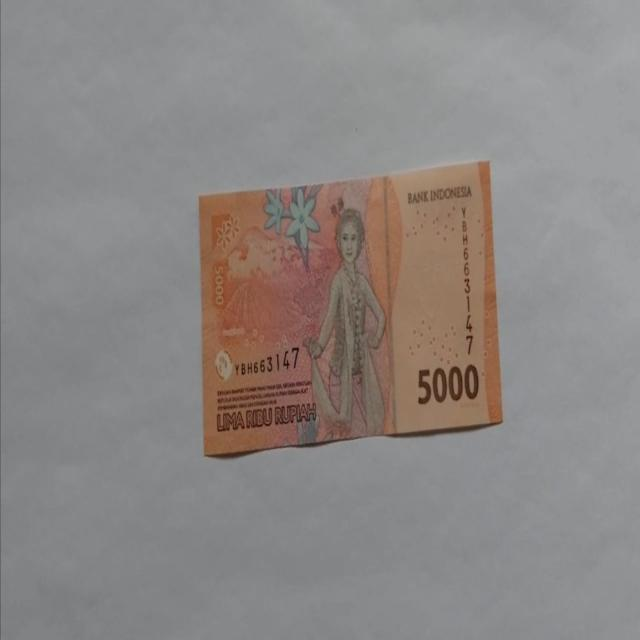lima ribu rupiah: (198, 157, 503, 457), (302, 206, 388, 442)
